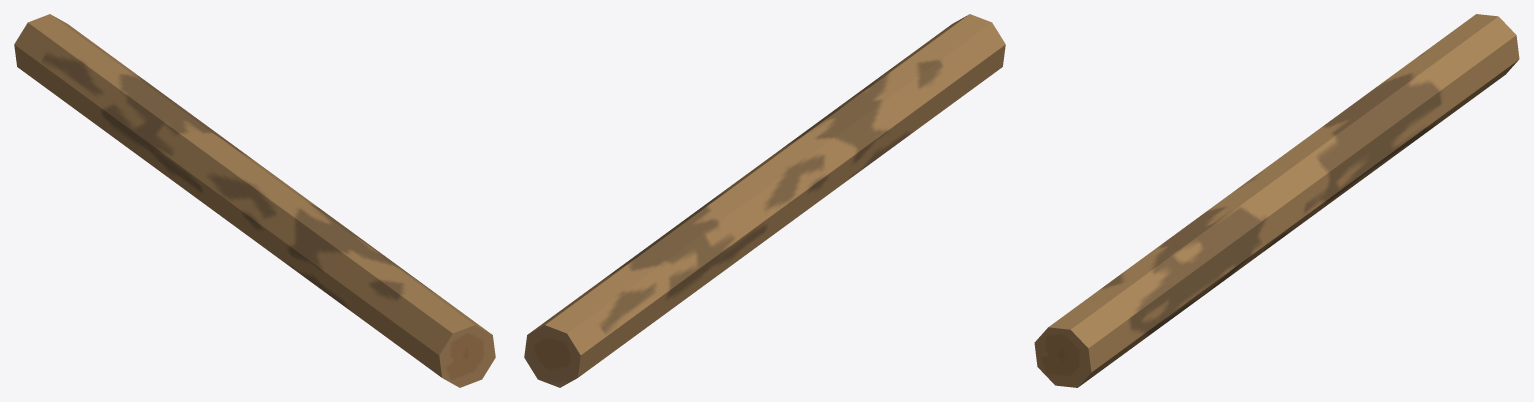
The model's file is SM_Prop_Log_Single_03.fbx.
3 renders of one model, left to right at view 1: azimuth 30°, elevation 25°; view 2: azimuth 150°, elevation 25°; view 3: azimuth 330°, elevation 25°, orthographic.
Parts seen in each view (by area): view 1: SM_Prop_Log_Single_03; view 2: SM_Prop_Log_Single_03; view 3: SM_Prop_Log_Single_03.
Part boxes in pixels (x1,y1,x2,y2): SM_Prop_Log_Single_03: [14, 14, 495, 387]; SM_Prop_Log_Single_03: [524, 14, 1005, 387]; SM_Prop_Log_Single_03: [1034, 14, 1519, 387].
Size of the model in its own units: 69.39 by 69.39 by 903.
